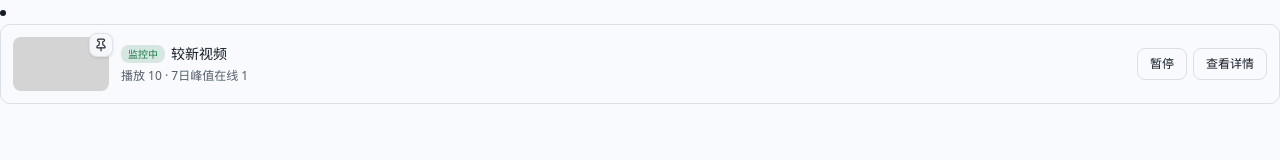
WP-R2-MON-01 video pin + sort UI › pin button is outside the two action keys and rolls back on error
This screenshot has width=1280, height=160.
Expected: the button "暂停" is shown, left=1137, top=48, right=1187, bottom=80
Click the button with test id "video-pin-button".
click(101, 45)  # box left=89, top=33, right=113, bottom=57
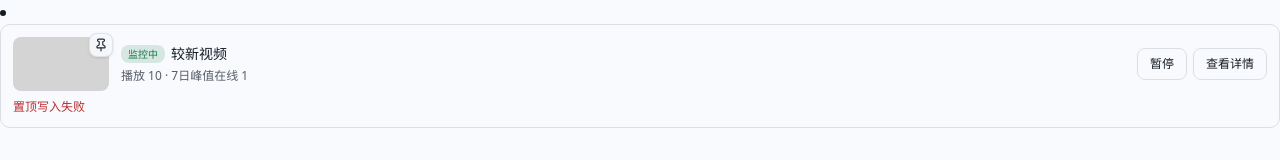
Expected: the message reads "置顶写入失败", left=13, top=98, right=85, bottom=115
